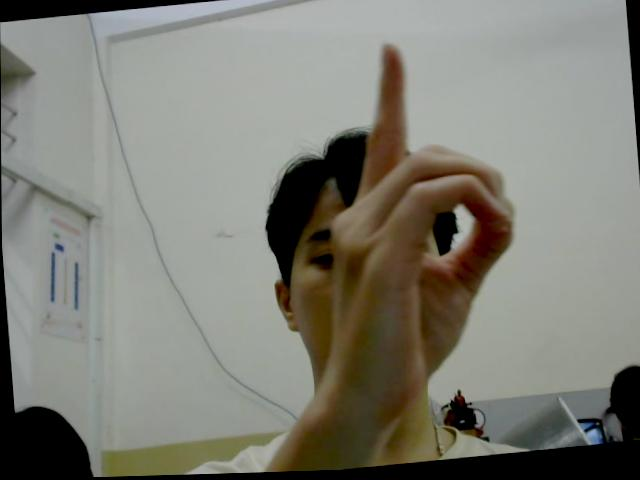D: (312, 31, 530, 415)
